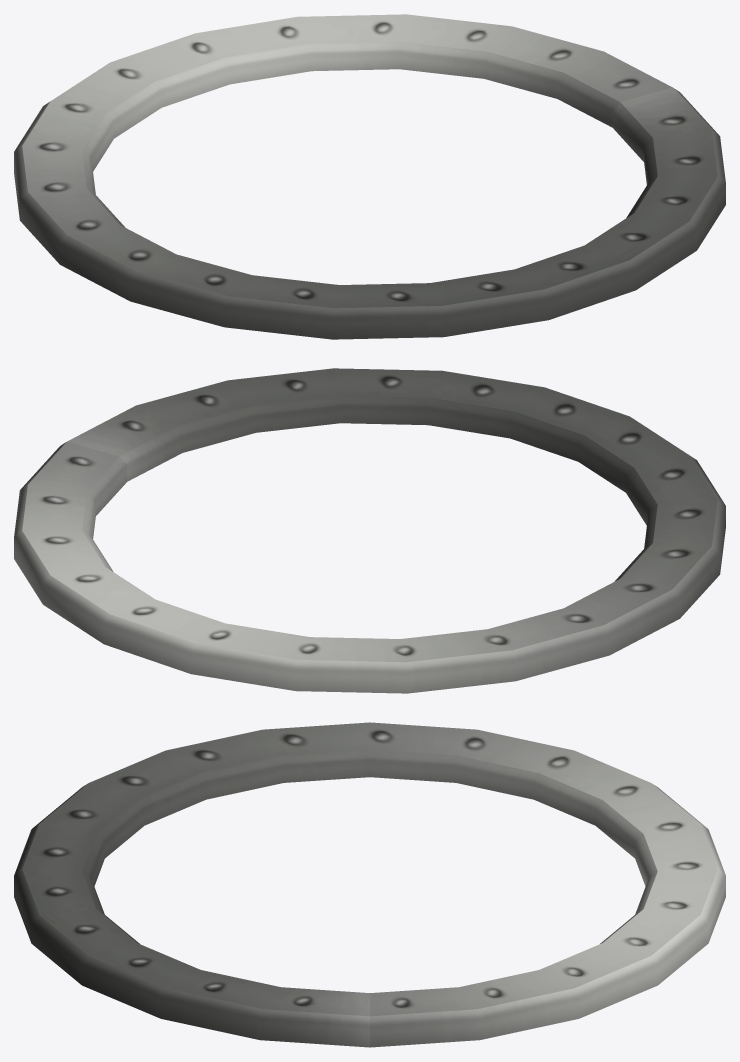
File: submarineWindow.fbx
3 renders of one model, top to bottom at view 1: azimuth 30°, elevation 25°; view 2: azimuth 150°, elevation 25°; view 3: azimuth 270°, elevation 25°, orthographic.
Parts seen in each view (by area): view 1: pPipe1; view 2: pPipe1; view 3: pPipe1.
Part boxes in pixels (bbox=[...]): pPipe1: bbox=[14, 14, 725, 339]; pPipe1: bbox=[14, 368, 725, 693]; pPipe1: bbox=[14, 722, 725, 1047].
Bounding box in the file's own units: 13.24 × 0.5678 × 13.24.
